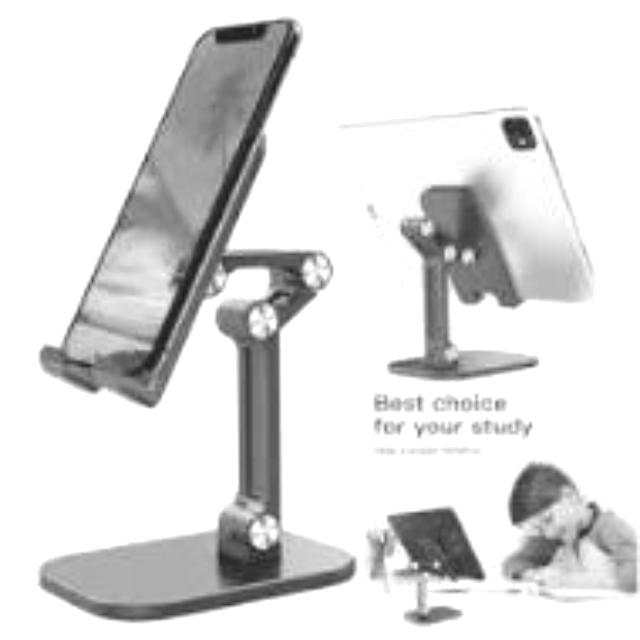fake: (28, 10, 328, 464)
